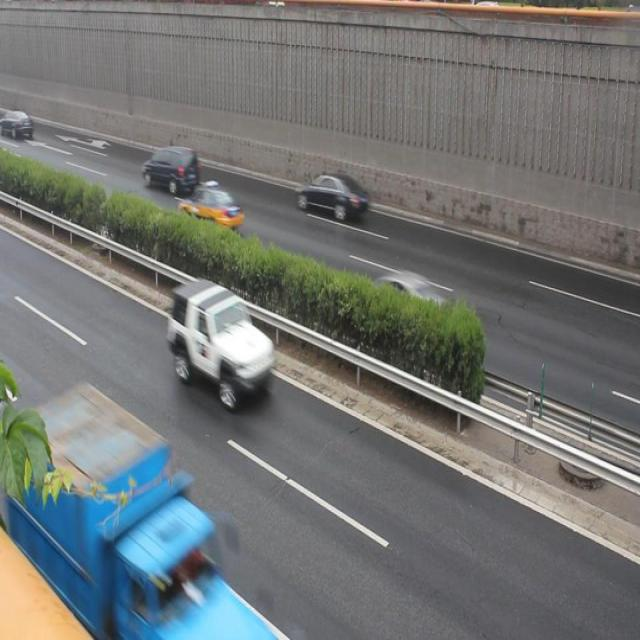bus: (15, 386, 259, 640)
car: (168, 274, 272, 400), (348, 270, 452, 355), (294, 171, 367, 224), (178, 186, 243, 236)
truck: (142, 142, 198, 193)
